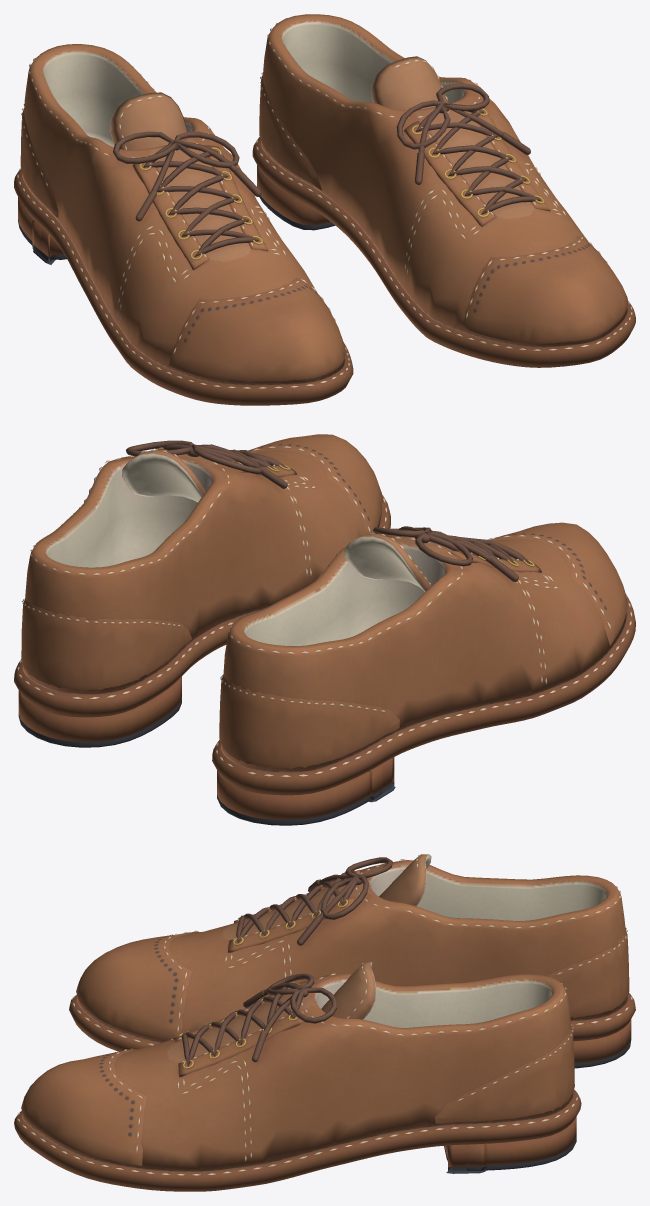
The model's file is shoe.glb.
3 renders of one model, top to bottom at view 1: azimuth 30°, elevation 25°; view 2: azimuth 150°, elevation 25°; view 3: azimuth 270°, elevation 25°, orthographic. The views are drawn at different scales.
Parts seen in each view (by area): view 1: shoe_body; view 2: shoe_body; view 3: shoe_body.
Boxes of the visible parts, x1,y1,x2,y2 form: shoe_body: (14, 14, 635, 405); shoe_body: (14, 434, 635, 825); shoe_body: (14, 854, 635, 1191).
Bounding box in the file's own units: 0.2486 × 0.1013 × 0.3175.
1 material, 1 textured.
